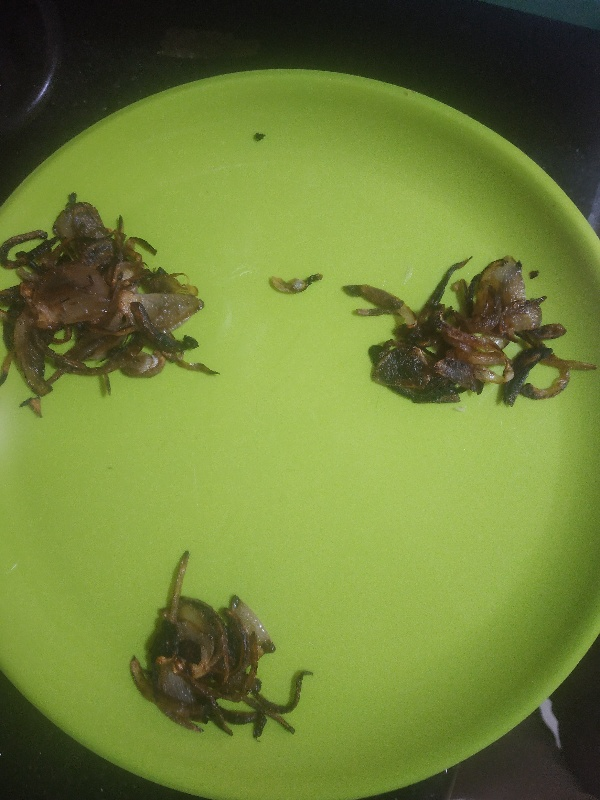onion_burnt: (1, 193, 208, 393), (354, 260, 600, 415), (122, 554, 307, 737)
